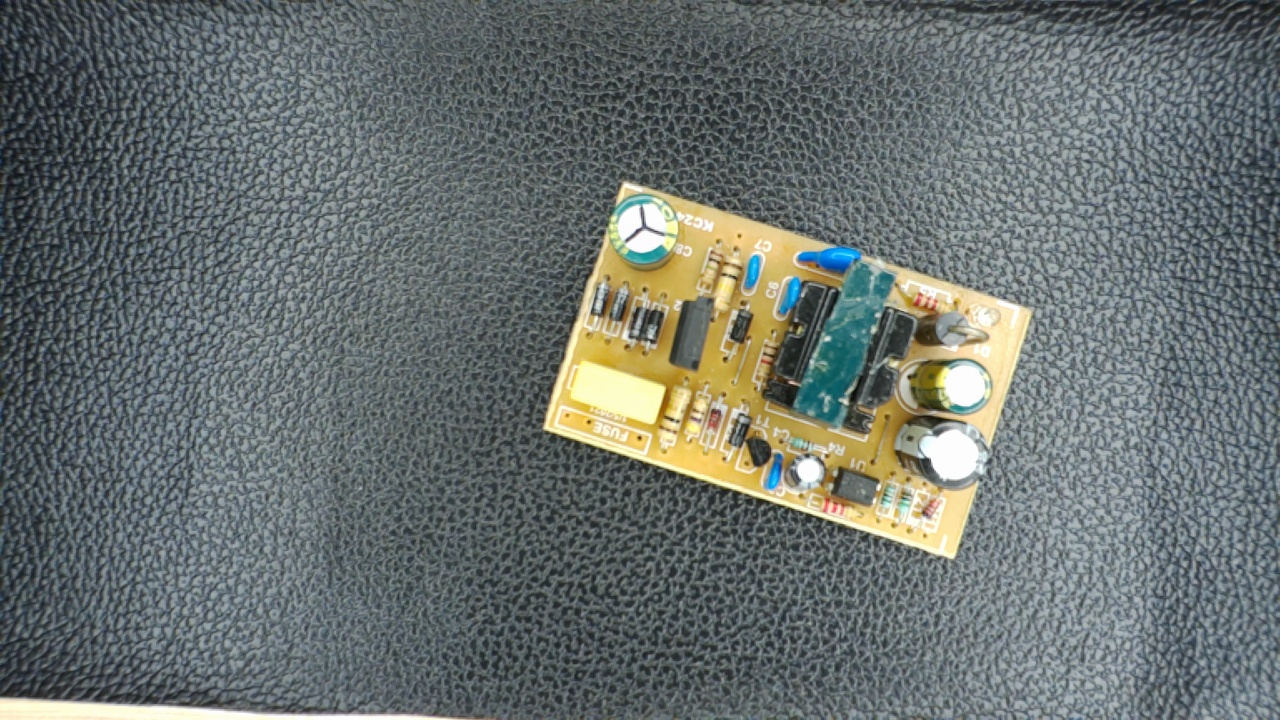hv_capacitor: (605, 195, 678, 272)
mov: (795, 243, 872, 278)
optocoupler: (827, 464, 884, 512)
